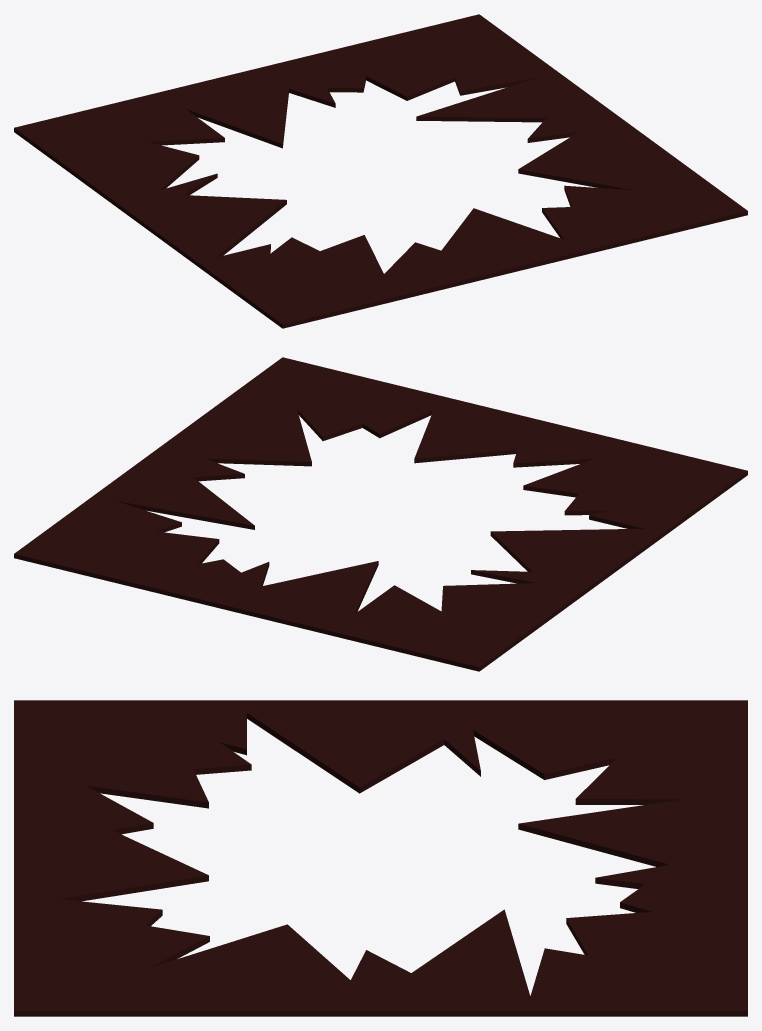
File: Hole.fbx
3 views of the same model, one above another, from view 1: azimuth 30°, elevation 25°; view 2: azimuth 150°, elevation 25°; view 3: azimuth 270°, elevation 25° (orthographic). The views are drawn at different scales.
Parts seen in each view (by area): view 1: Hole; view 2: Hole; view 3: Hole.
Part boxes in pixels (left/top/right/bottom): Hole: left=14, top=14, right=747, bottom=328; Hole: left=14, top=357, right=747, bottom=671; Hole: left=14, top=700, right=747, bottom=1016.
Bounding box in the file's own units: 317 × 317 × 2.81.
